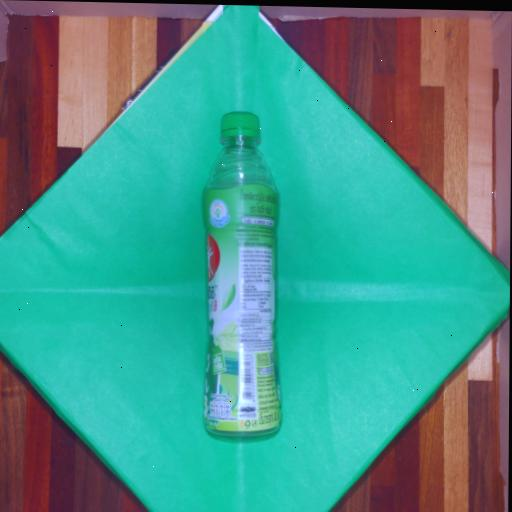bottle: (185, 92, 293, 454)
